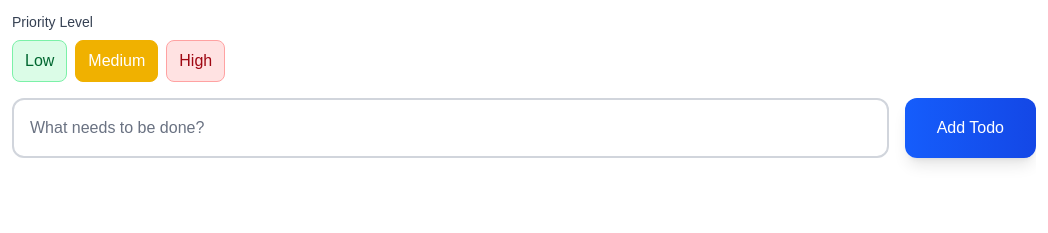
TodoInput › prevents submission when input is empty
Click the button "Add Todo" at (970, 128), box [905, 98, 1036, 158]
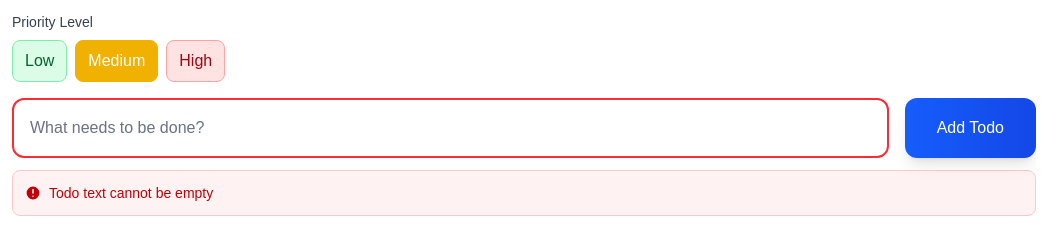
Now the text "Todo text cannot be empty" is shown, box [25, 185, 213, 201]
